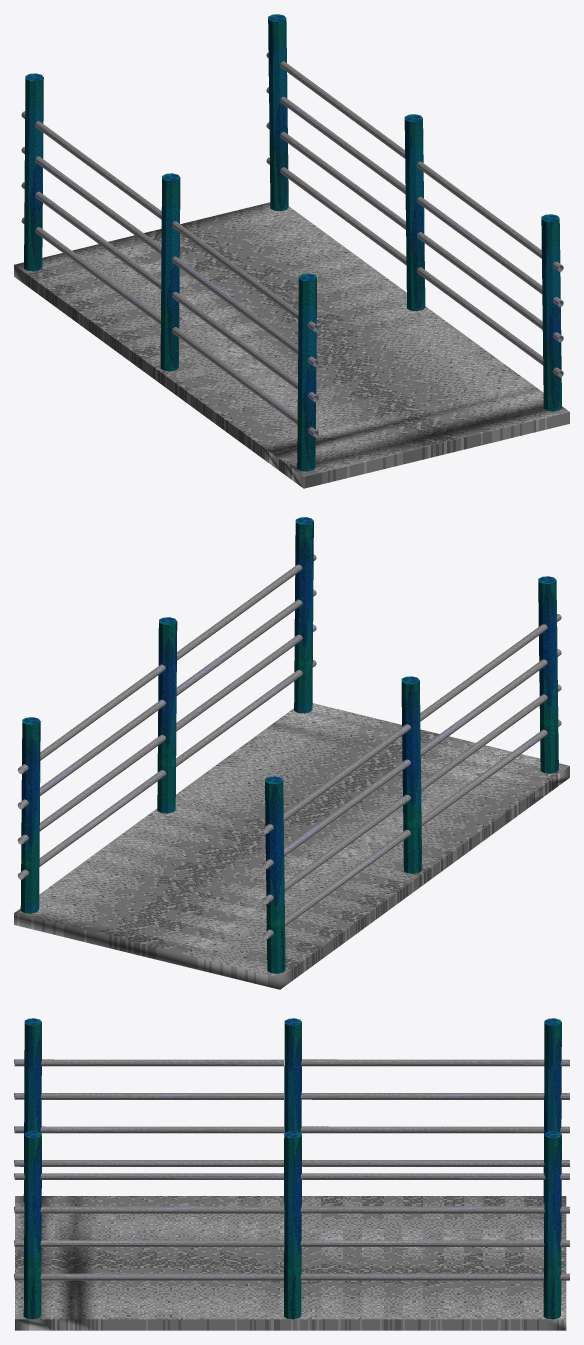
The model's file is StraightWalkwayConnection.glb.
The picture shows the model from 3 angles, top to bottom: view 1: azimuth 30°, elevation 25°; view 2: azimuth 150°, elevation 25°; view 3: azimuth 270°, elevation 25°; orthographic projection. The views are drawn at different scales.
Visible parts, largest first — view 1: Straight_Walkway; view 2: Straight_Walkway; view 3: Straight_Walkway.
Boxes of the visible parts, bbox=[...] form: Straight_Walkway: bbox=[14, 14, 569, 488]; Straight_Walkway: bbox=[14, 517, 569, 989]; Straight_Walkway: bbox=[14, 1018, 569, 1330].
Size of what is drawn, in the model's own units: 8.73 by 6.3 by 16.6.
Materials: 3 (3 with a texture image).
